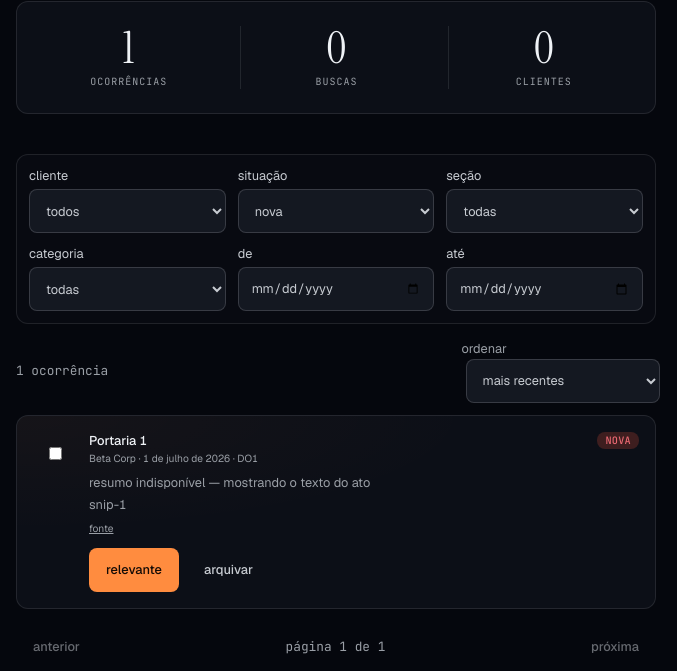
it: emptying the only page just shows the empty state
(page scrolled)
Expected: the text "snip-1" is shown, [89,496,127,513]
Click the button "relevante" at (134, 570), box [89,548,179,592]
(page scrolled)
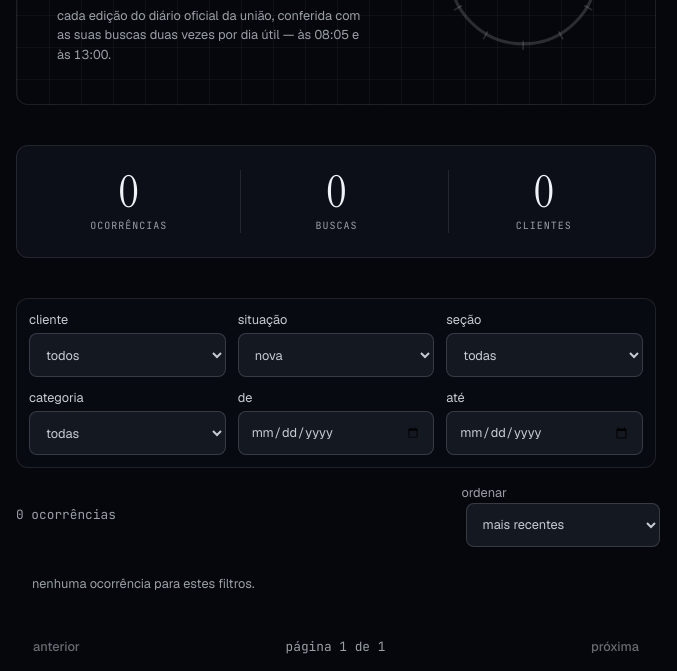
Now the text "nenhuma ocorrência para estes filtros." is shown, box [32,575,254,592]
